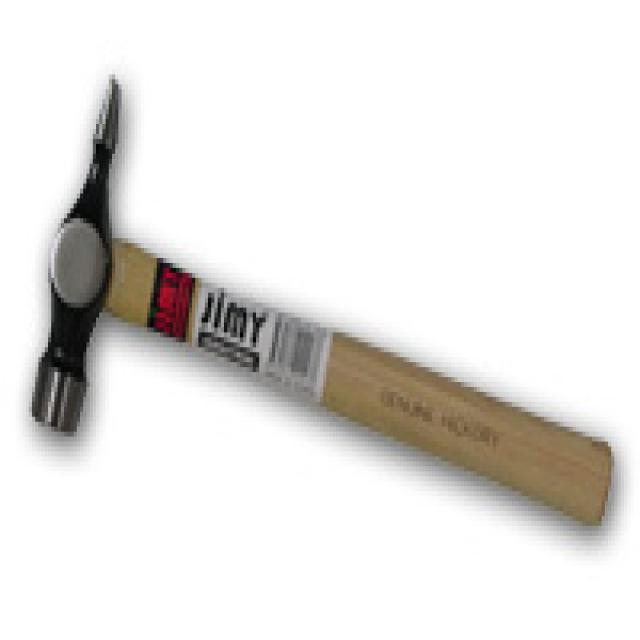hammer: (26, 70, 616, 565)
